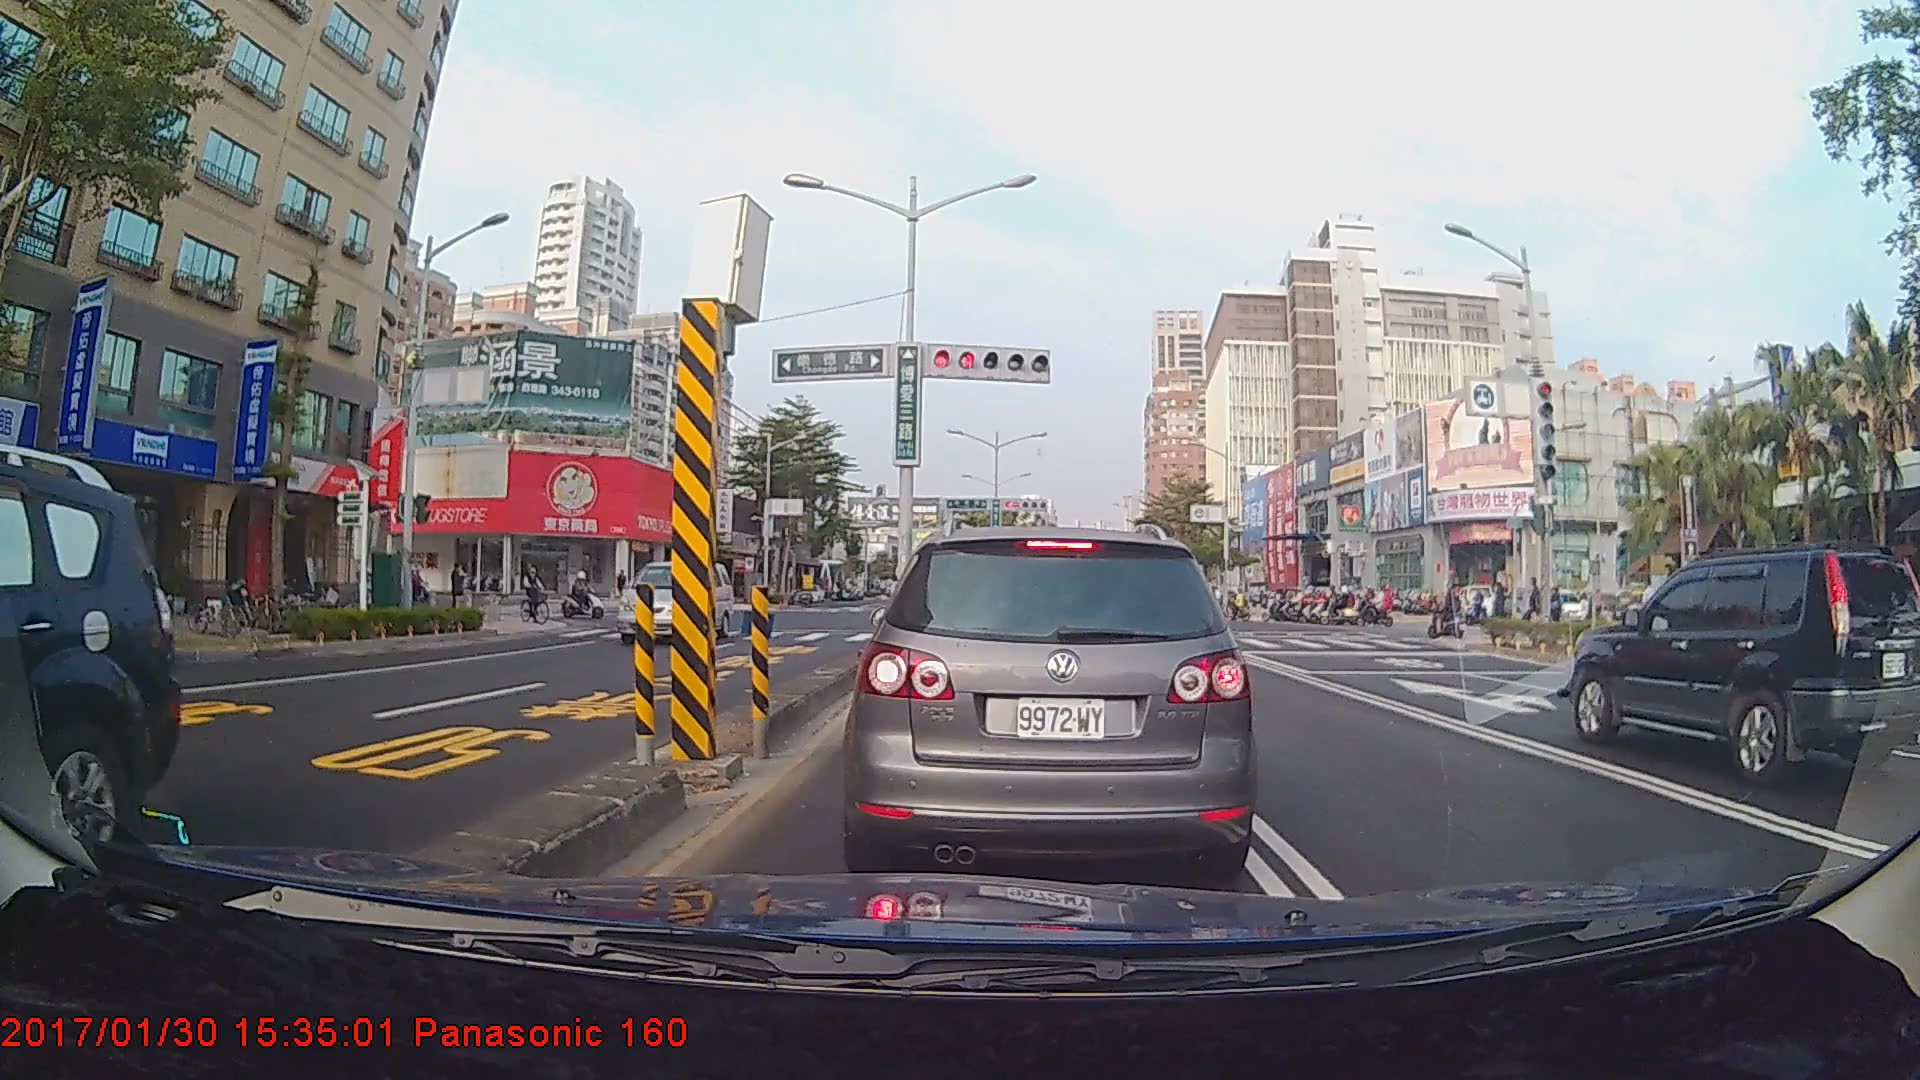pedestrian: (447, 563, 467, 620)
rider: (562, 566, 609, 619), (1422, 581, 1463, 636), (522, 566, 551, 627)
vehicle: (841, 519, 1258, 882), (1566, 548, 1920, 786), (0, 441, 183, 844), (614, 562, 735, 645)
